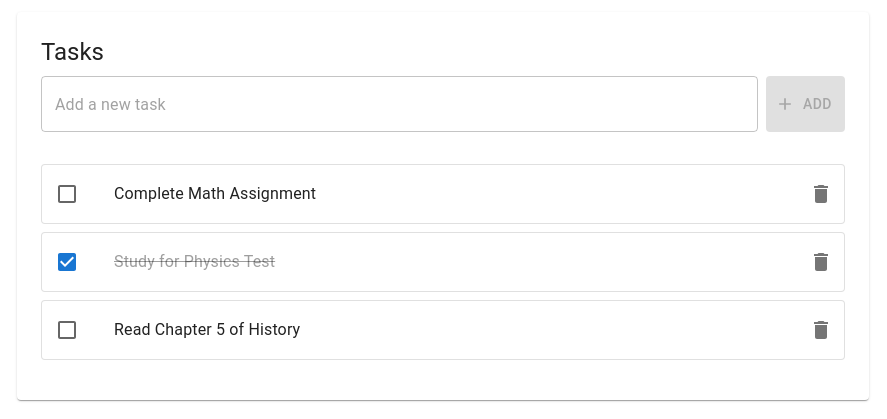
Test case: TaskList Component › deletes a task
Find and click delete button for first task
What coordinates should you click on to do the following:
click the button with test id "DeleteIcon" in the row of "Complete Math Assignment"
I would click on:
 (821, 194)
Its box is left=801, top=174, right=841, bottom=214.
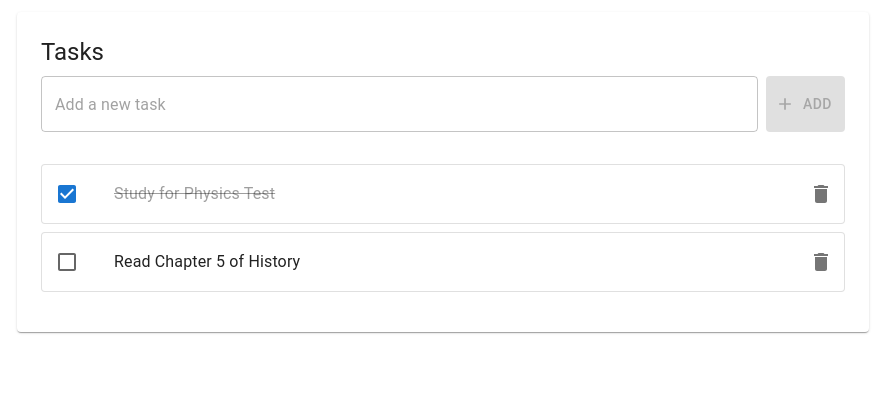
Expected: the number of list items is 2, left=41, top=164, right=845, bottom=224; left=41, top=232, right=845, bottom=292
Expected: the text "Complete Math Assignment" is gone
